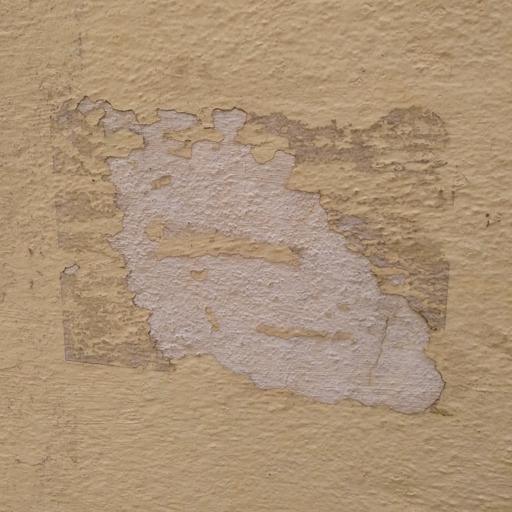peeling: (69, 82, 463, 432)
